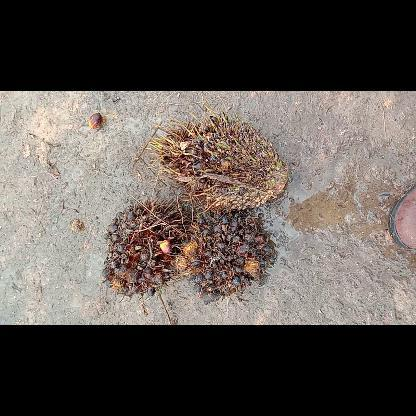TBS abnormal: (148, 105, 288, 213), (102, 198, 192, 296), (174, 210, 275, 296)
